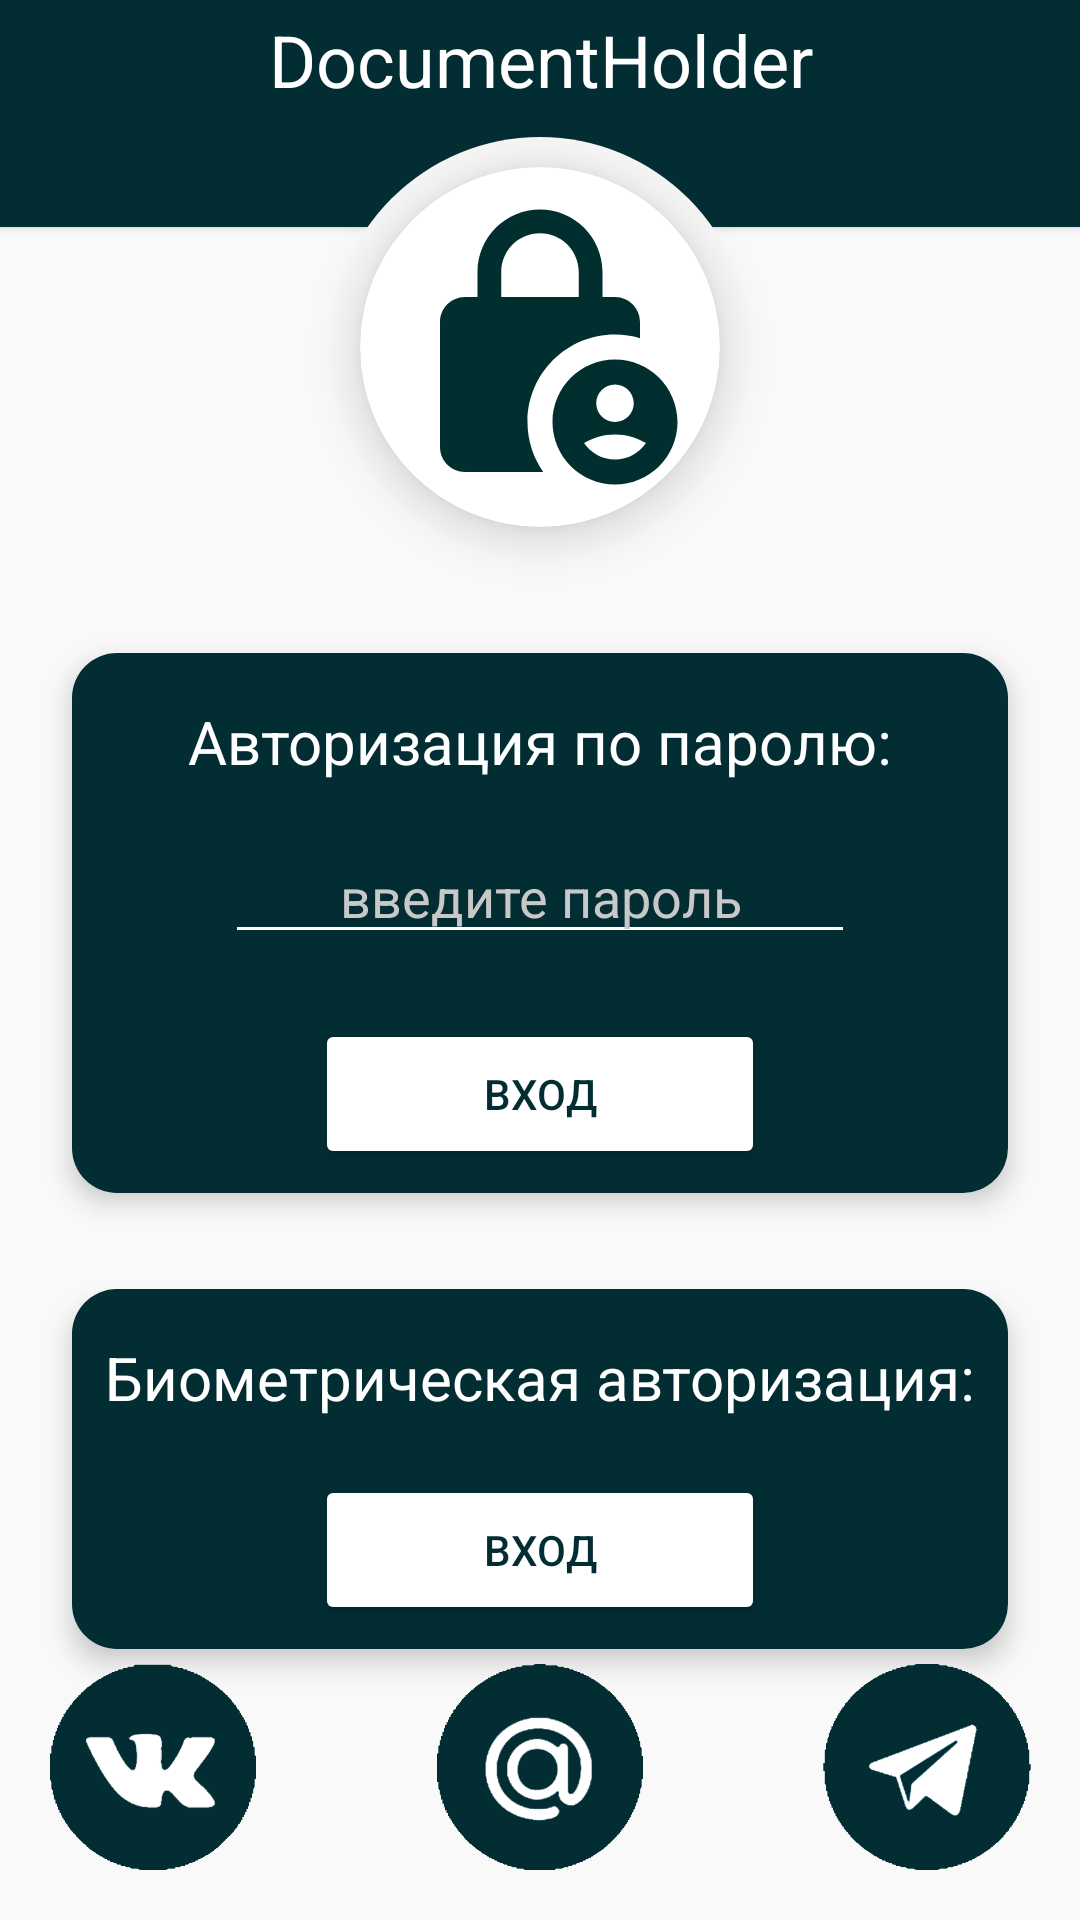

Icon bounding boxes for this 1080*1920 phone screenshot, format {"x1": x1, "y1": y1, "x2": x2, "y2": y2}:
mail: {"x1": 437, "y1": 1664, "x2": 643, "y2": 1870}
